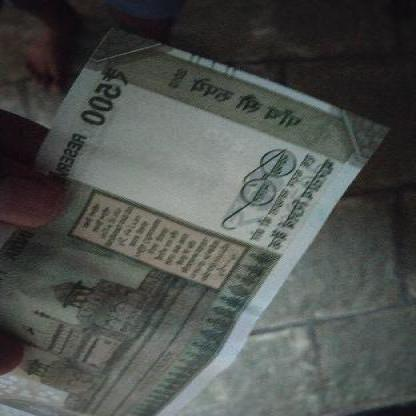New500Back: (0, 29, 387, 415)
